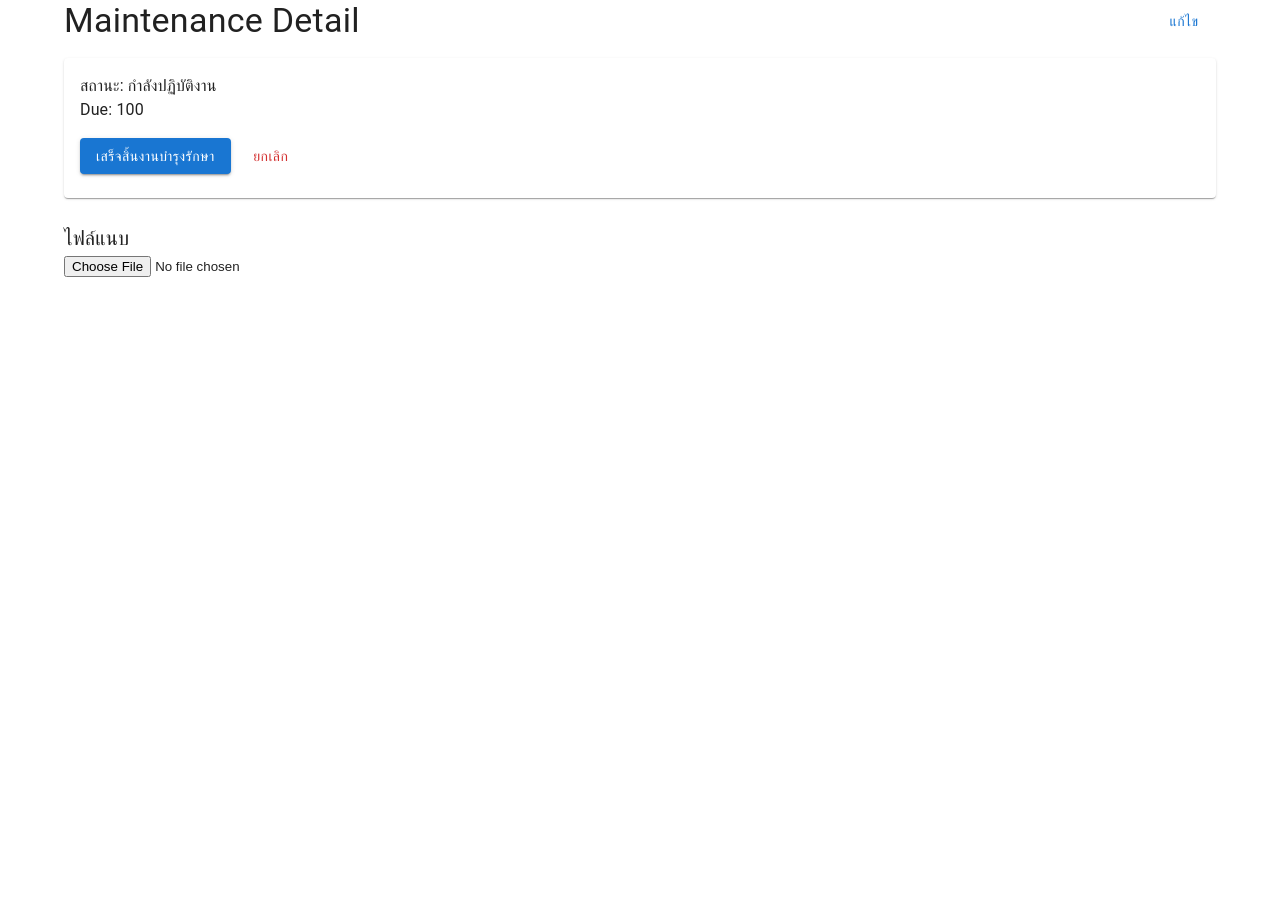
Scenario: Fleet maintenance UI › shows conflict error from action
This screenshot has width=1280, height=900.
Click the button "เสร็จสิ้นงานบำรุงรักษา".
click(155, 156)  # box [80,138,231,174]
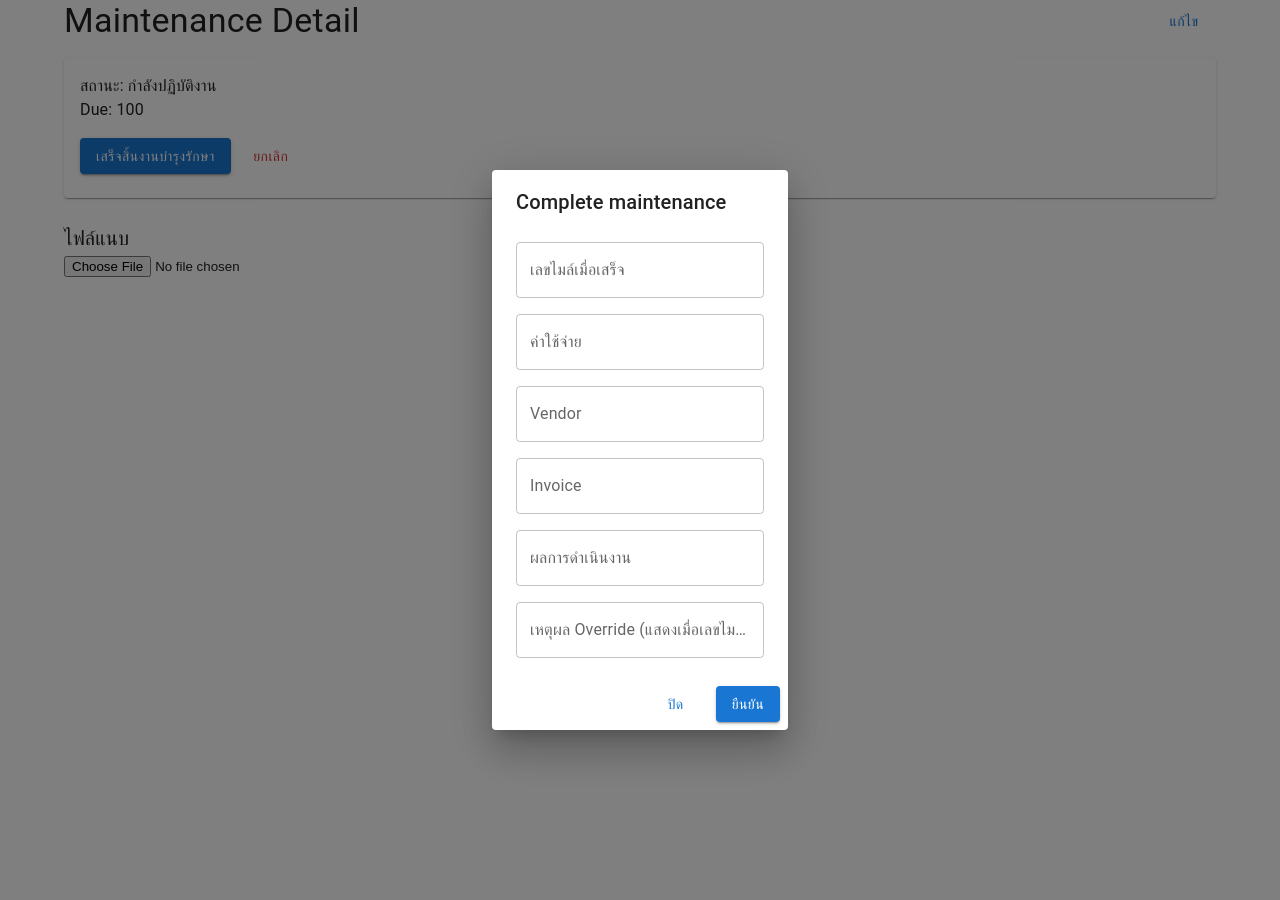
Click the button "ยืนยัน".
click(748, 704)  # box [716,686,780,722]
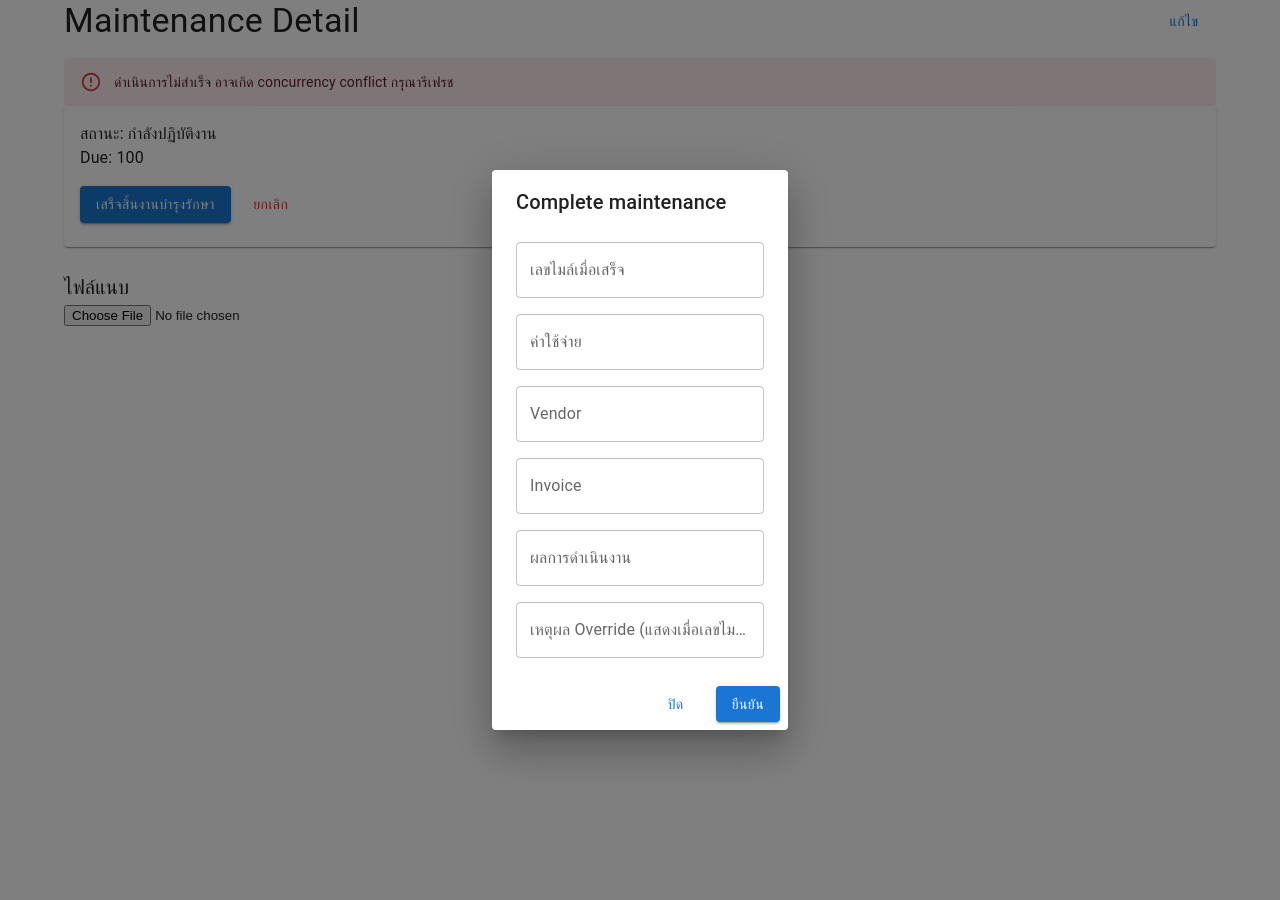
expect the text "ดำเนินการไม่สำเร็จ อาจเกิด concurrency conflict กรุณารีเฟรช" is shown: met, box [114,74,454,90]
